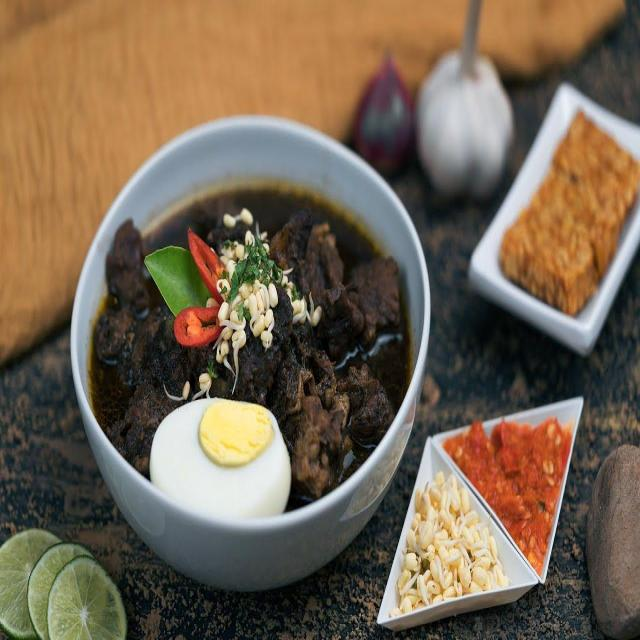Rawon: (112, 139, 401, 523)
